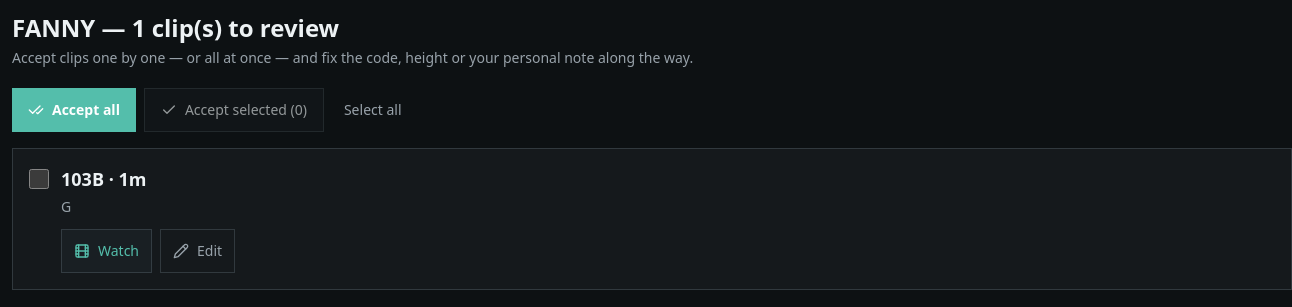
refreshes remaining clips after a partial acceptance
This screenshot has width=1292, height=307.
Click the checkbox.
click(39, 179)  # box left=29, top=169, right=49, bottom=189
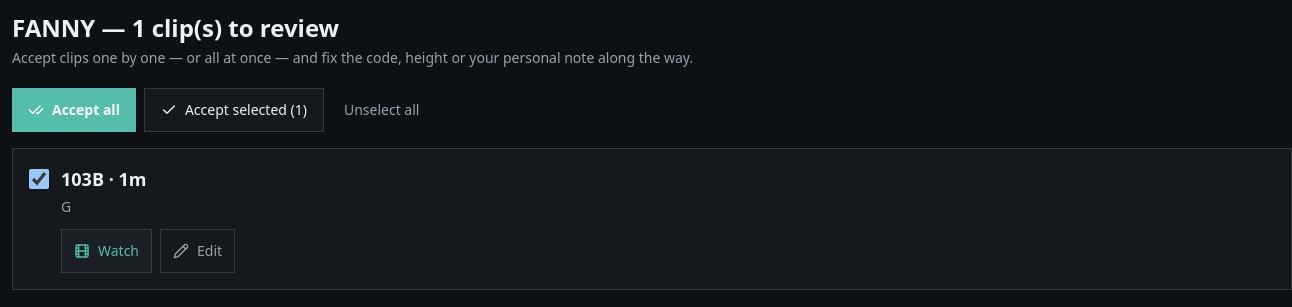
Click the button "Accept selected (1)".
click(234, 110)  # box left=144, top=88, right=324, bottom=132
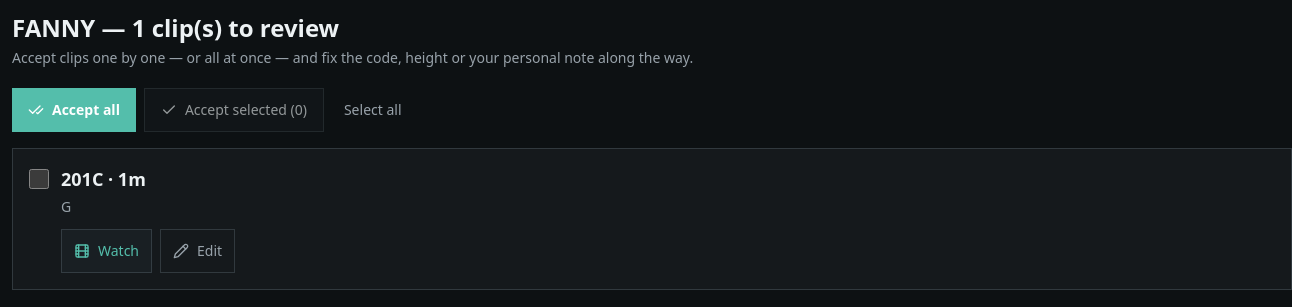
Expected: the heading "201C · 1m" is shown, left=61, top=165, right=146, bottom=193
Expected: the checkbox is not checked, left=29, top=169, right=49, bottom=189
